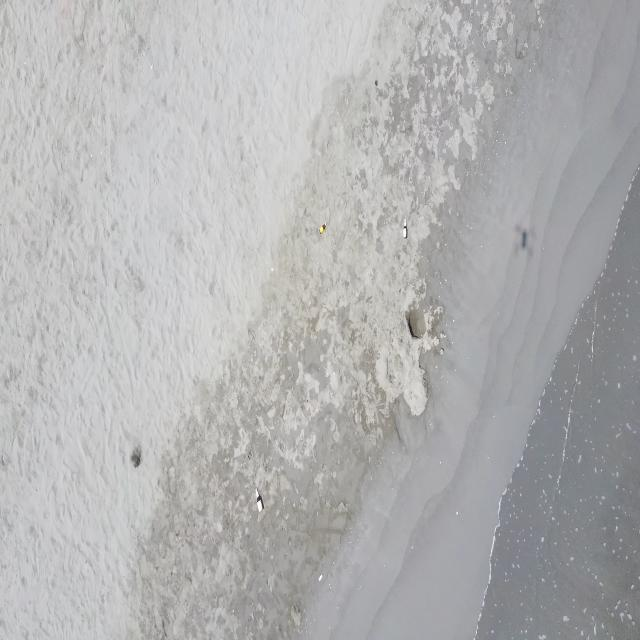glass: (255, 488, 264, 512), (402, 218, 408, 240), (319, 223, 327, 234)
